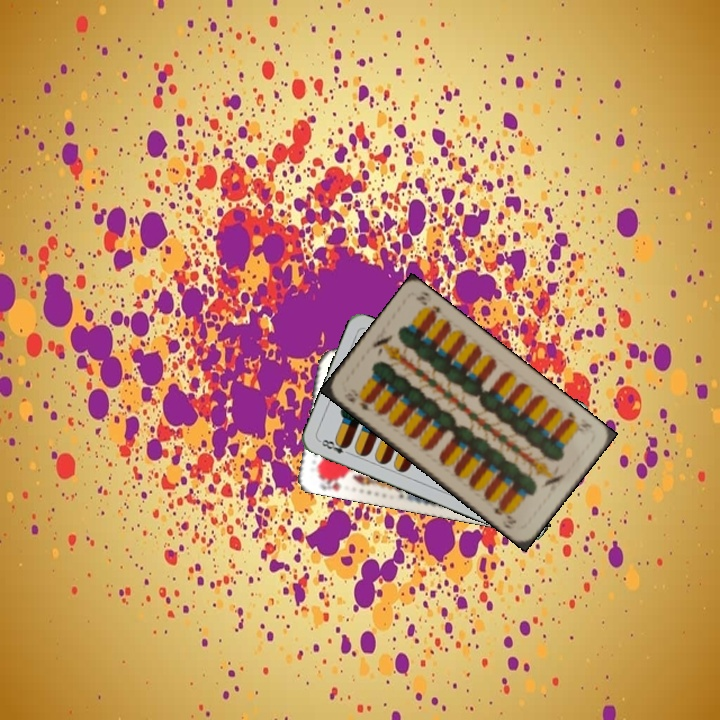E10: (561, 407, 595, 433), (343, 393, 377, 414)
E8: (316, 435, 354, 458)
HK: (314, 470, 347, 493)
